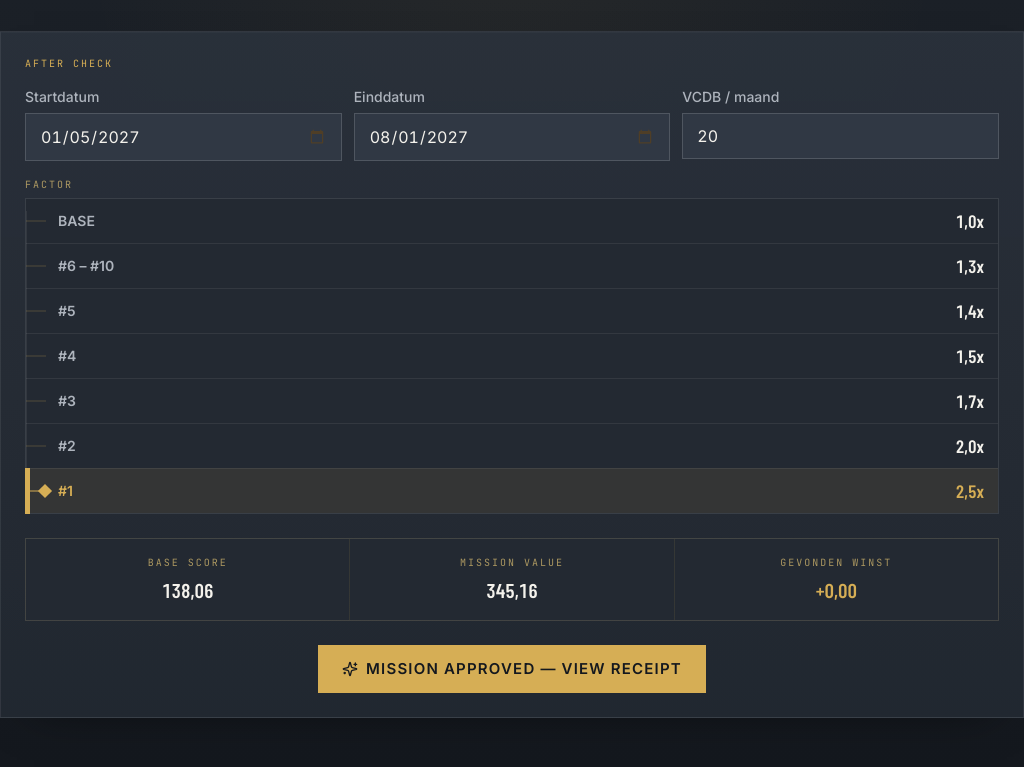
MissionReceiptFlow — receipt is never gated on 6/6 › J. the generated receipt (the same node the PNG is rendered from) carries both hero labels
This screenshot has width=1024, height=767.
What coordinates should you click on to do the following:
click the button "Mission Approved — View Receipt"
I would click on:
 (512, 669)
Its box is [318,645,706,693].
(page scrolled)
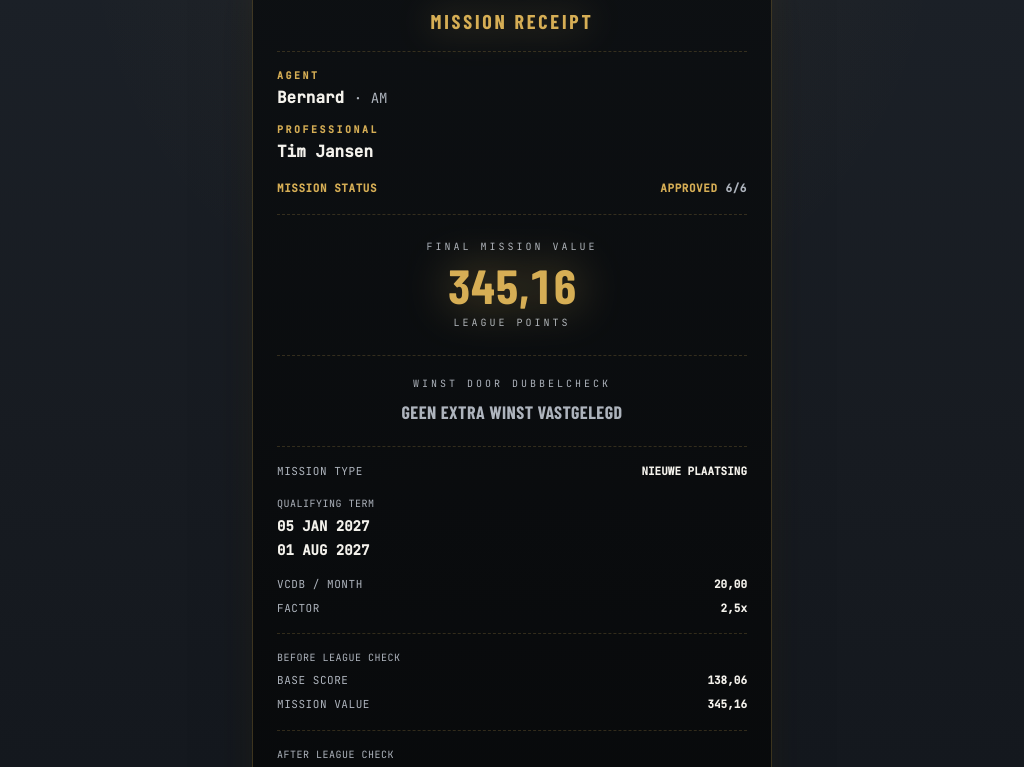
Result: the text "Final Mission Value" is shown at [426,240,598,253]
Result: the text "Winst door Dubbelcheck" is shown at [413,377,611,390]
